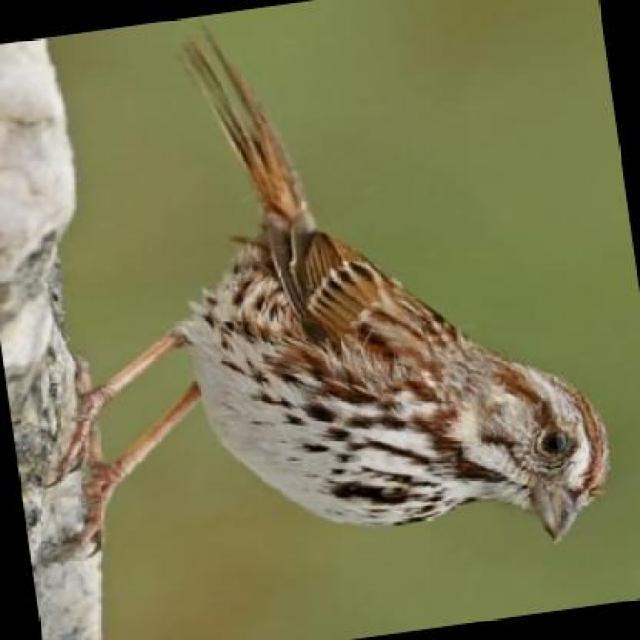Bird: (36, 19, 628, 588)
